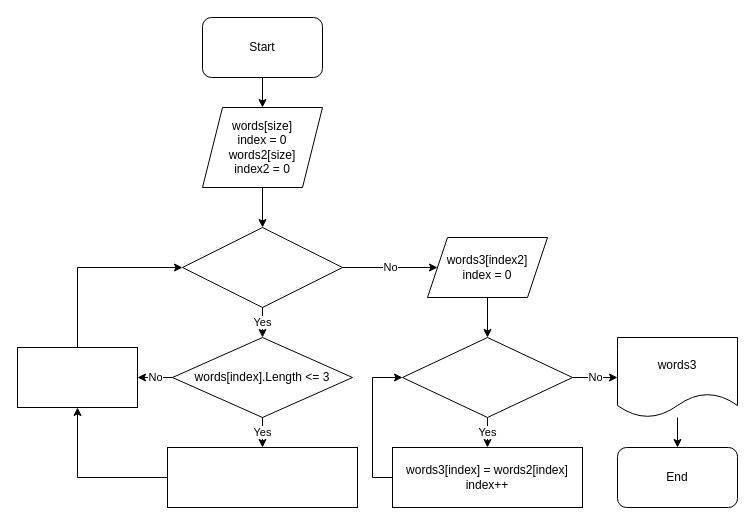
This 755x525 diagram has some shape labels left out. The shapes that lost their labels are listed below. From the top down, each one's centre as x and y in pixels, then its label:
point 262,267: index < size
point 77,377: index++
point 487,377: index < index2
point 262,477: words2[index2] = words[index] index2++
